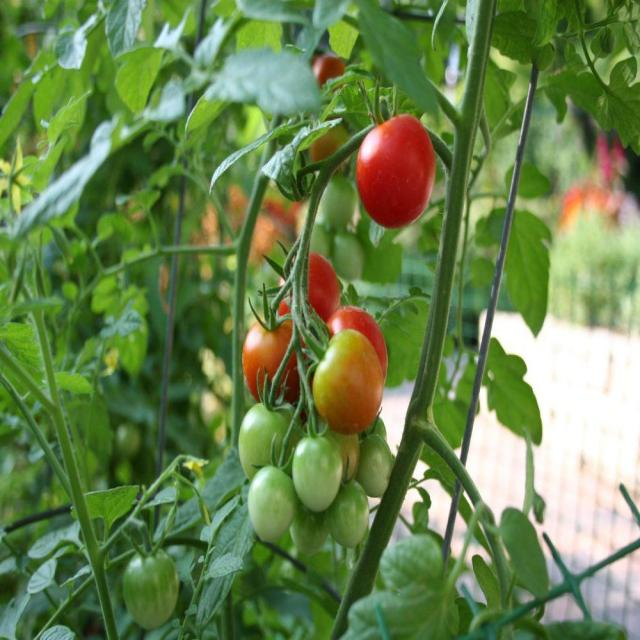level 1: (125, 546, 181, 628)
level 2: (242, 402, 304, 490), (296, 432, 346, 508), (251, 462, 298, 542)
level 3: (313, 332, 386, 432), (245, 301, 307, 402)
level 5: (272, 251, 342, 342), (318, 307, 390, 388)
level 6: (358, 106, 434, 227)
